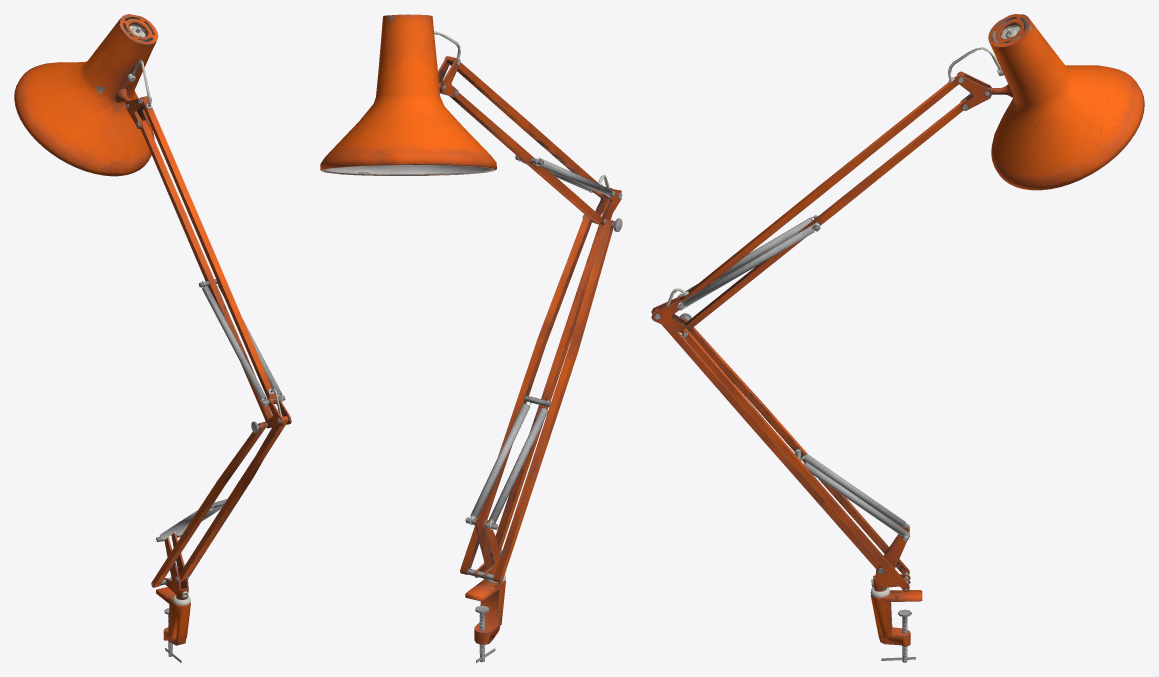
File: desk_lamp_arm_01.glb
The picture shows the model from 3 angles, left to right: view 1: azimuth 30°, elevation 25°; view 2: azimuth 150°, elevation 25°; view 3: azimuth 270°, elevation 25°; orthographic projection. The views are drawn at different scales.
Parts seen in each view (by area): view 1: desk_lamp_arm_01; view 2: desk_lamp_arm_01; view 3: desk_lamp_arm_01.
Boxes of the visible parts, x1,y1,x2,y2 form: desk_lamp_arm_01: (14, 14, 291, 662); desk_lamp_arm_01: (320, 14, 622, 662); desk_lamp_arm_01: (651, 14, 1144, 662).
Size of the model in its own units: 0.2018 by 0.8926 by 0.6139.
2 materials, 2 textured.
